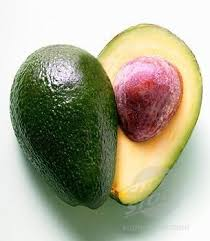aguacate: (8, 40, 122, 223)
